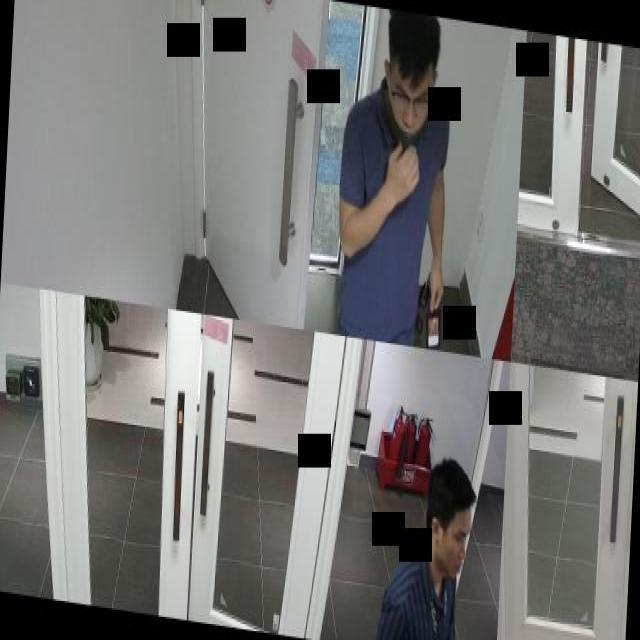hairnet: (388, 73, 433, 153)
